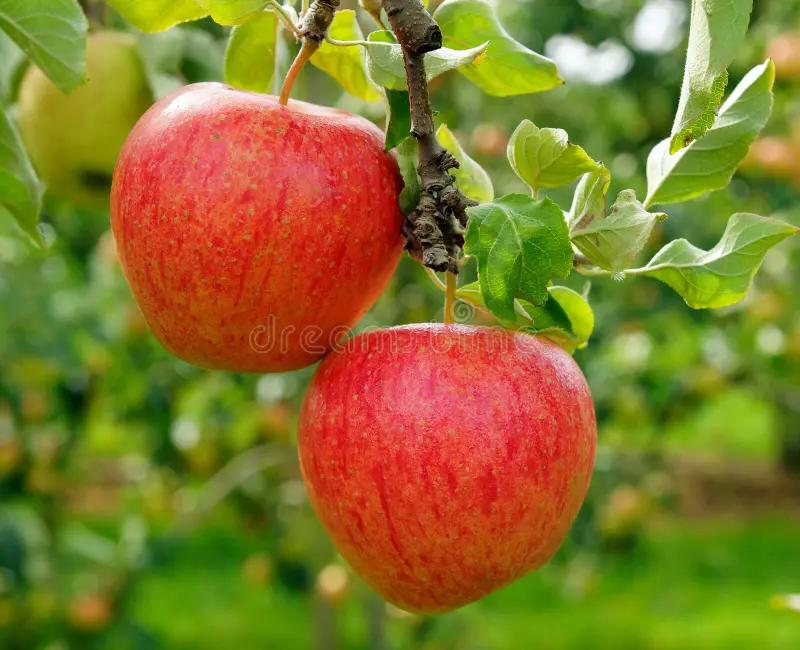apple: (294, 317, 630, 624), (105, 73, 409, 378)
